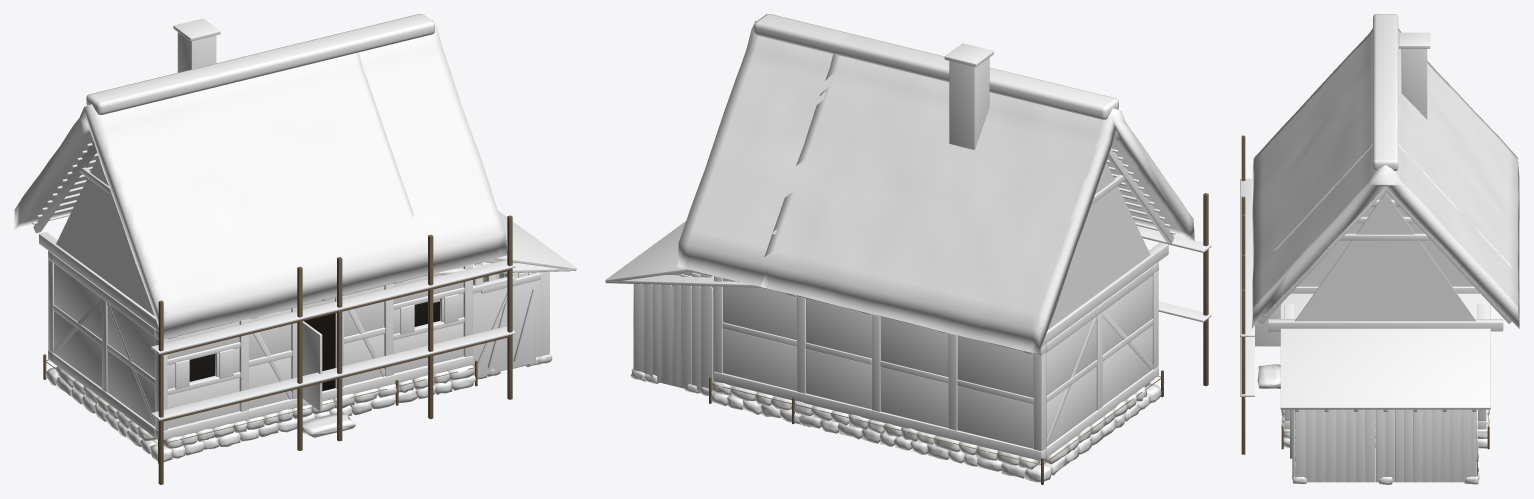
Rendered from building.farm.glb.
3 renders of one model, left to right at view 1: azimuth 30°, elevation 25°; view 2: azimuth 150°, elevation 25°; view 3: azimuth 270°, elevation 25°, orthographic. The views are drawn at different scales.
Visible parts, largest first — view 1: thatch@upgraded, thatch, ridge, gable.l, ridge@upgraded, scaffold.board1, sill.f@upgraded, scaffold.board0, barn.door1, scaffold.board0@upgraded, daub.l0.low, daub.l0.high (+35 smaller); view 2: thatch@upgraded, thatch, gable.l, ridge, ridge@upgraded, daub.b0.low, daub.b0.high, daub.b3.low, chimney, daub.b3.high, daub.b1.low, sill.b@upgraded (+32 smaller); view 3: thatch@upgraded, thatch, barnU.roof, gable.r@upgraded, ridge@upgraded, tie4, gable.r, chimney, barn.roof, ridge, scaffold.board1, scaffold.board1@upgraded (+42 smaller).
Boxes of the visible parts, x1,y1,x2,y2 form: thatch@upgraded: (14,20,507,337); thatch: (14,52,421,338); ridge: (86,33,352,114); gable.l: (56,156,154,315); ridge@upgraded: (86,14,434,114); scaffold.board1: (152,279,435,354); sill.f@upgraded: (163,355,472,439); scaffold.board0: (152,345,435,420); barn.door1: (473,288,507,376); scaffold.board0@upgraded: (151,326,515,420); daub.l0.low: (107,350,155,426); daub.l0.high: (107,304,155,378); thatch@upgraded: (677,20,1188,354); thatch: (761,54,1194,353); gable.l: (1048,162,1150,329); ridge: (839,34,1118,119); ridge@upgraded: (753,14,1118,119); daub.b0.low: (957,386,1033,448); daub.b0.high: (957,336,1033,397); daub.b3.low: (723,329,796,390); chimney: (949,57,989,149); daub.b3.high: (723,278,796,340); daub.b1.low: (880,367,948,427); sill.b@upgraded: (713,371,1040,460); thatch@upgraded: (1251,28,1519,328); thatch: (1251,33,1519,291); barnU.roof: (1280,328,1490,408); gable.r@upgraded: (1295,192,1476,321); ridge@upgraded: (1373,14,1398,170); tie4: (1268,319,1503,331); gable.r: (1297,191,1473,286); chimney: (1401,48,1427,119); barn.roof: (1280,293,1490,409); ridge: (1373,14,1398,126); scaffold.board1: (1240,178,1251,300); scaffold.board1@upgraded: (1240,179,1254,336).
Bounding box in the file's own units: 11.11 × 8.56 × 6.78.
